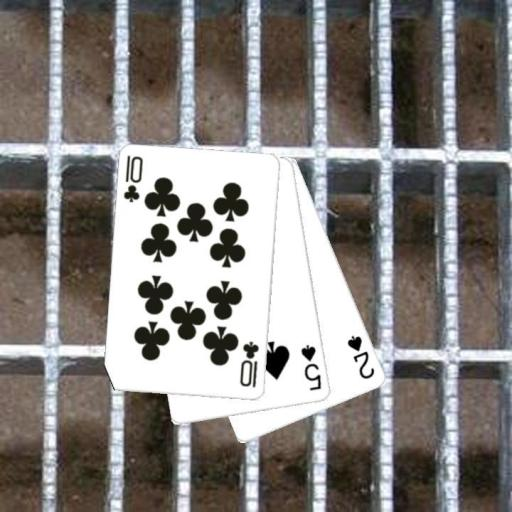10C: (120, 152, 145, 204), (237, 339, 261, 390)
2S: (344, 332, 376, 381)
5S: (298, 342, 324, 393)
